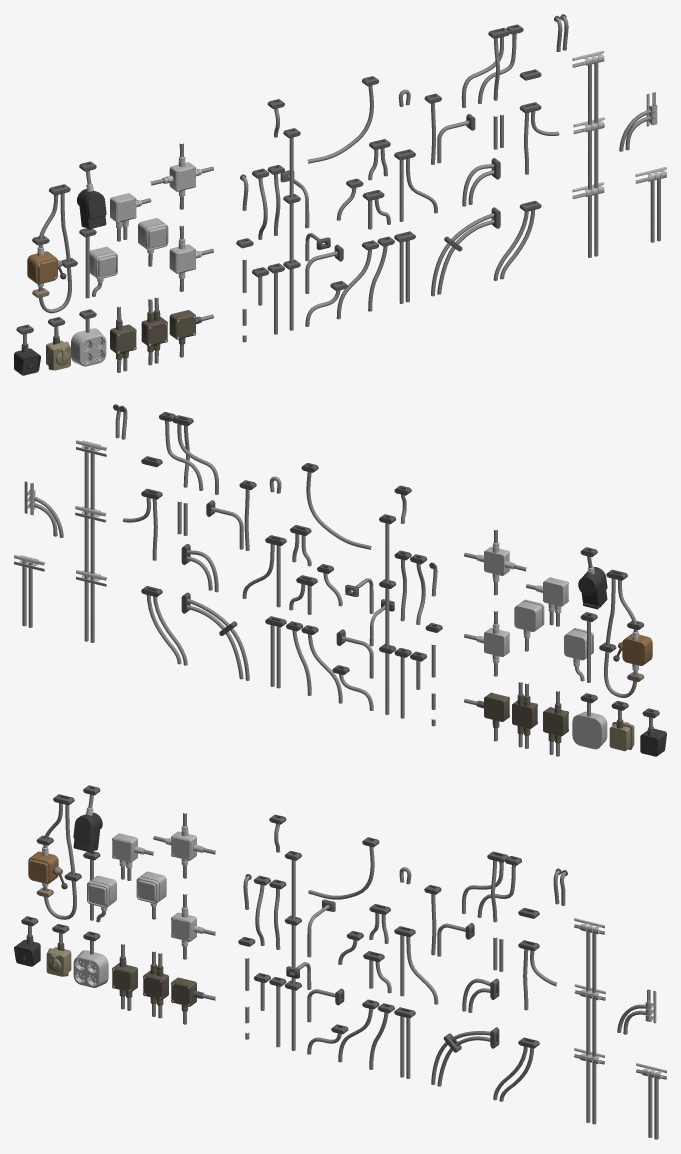
File: parts.gltf
3 renders of one model, top to bottom at view 1: azimuth 30°, elevation 25°; view 2: azimuth 150°, elevation 25°; view 3: azimuth 330°, elevation 25°, orthographic.
Parts seen in each view (by area): view 1: cable_double_alt_long, cable_switch, cable_plug_4x, cable_3way_junction, cable_lightswitch_double, cable_straight_long, cable_plug_covered_2, cable_double_turn_long, cable_box_double, cable_box_4way, cable_box_3way, cable_box_double_to_single (+14 smaller); view 2: cable_double_alt_long, cable_switch, cable_3way_junction, cable_plug_4x, cable_straight_long, cable_lightswitch_double, cable_double_turn_long, cable_plug_covered_2, cable_box_double, cable_box_4way, cable_box_double_to_single_2, cable_box_3way (+14 smaller); view 3: cable_double_alt_long, cable_switch, cable_plug_4x, cable_3way_junction, cable_straight_long, cable_plug_covered_2, cable_lightswitch_double, cable_double_turn_long, cable_box_4way, cable_box_double, cable_box_3way, cable_box_double_to_single (+14 smaller).
Boxes of the visible parts, x1,y1,x2,y2 form: cable_double_alt_long: (572, 50, 604, 257); cable_switch: (27, 184, 77, 313); cable_plug_4x: (71, 309, 106, 366); cable_3way_junction: (461, 24, 523, 107); cable_lightswitch_double: (79, 228, 117, 298); cable_straight_long: (283, 128, 300, 330); cable_plug_covered_2: (77, 161, 106, 228); cable_double_turn_long: (431, 207, 500, 296); cable_box_double: (141, 297, 167, 365); cable_box_4way: (150, 143, 213, 209); cable_box_3way: (169, 225, 213, 291); cable_box_double_to_single: (110, 307, 136, 372); cable_double_alt_long: (75, 440, 106, 642); cable_switch: (599, 569, 652, 697); cable_3way_junction: (159, 412, 218, 494); cable_plug_4x: (572, 693, 607, 749); cable_straight_long: (379, 514, 396, 714); cable_lightswitch_double: (564, 612, 597, 682); cable_double_turn_long: (181, 592, 249, 680); cable_plug_covered_2: (578, 547, 607, 609); cable_box_double: (512, 682, 537, 748); cable_box_4way: (464, 530, 526, 595); cable_box_double_to_single_2: (526, 577, 568, 626); cable_box_3way: (464, 611, 509, 676); cable_double_alt_long: (574, 918, 605, 1124); cable_switch: (28, 794, 81, 919); cable_plug_4x: (73, 931, 108, 987); cable_3way_junction: (462, 851, 521, 922); cable_straight_long: (284, 851, 301, 1050); cable_plug_covered_2: (73, 785, 102, 852); cable_lightswitch_double: (83, 851, 116, 922); cable_double_turn_long: (431, 1027, 499, 1086); cable_box_4way: (153, 813, 215, 878); cable_box_double: (143, 951, 168, 1018); cable_box_3way: (171, 894, 216, 959); cable_box_double_to_single: (112, 944, 137, 1010).
Bounding box in the file's own units: 2.08 × 0.7573 × 0.2145.
